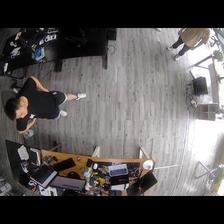normal: (5, 77, 87, 134)
